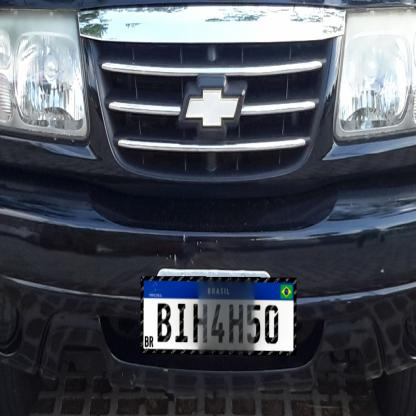PlacaM: (140, 276, 296, 356)
